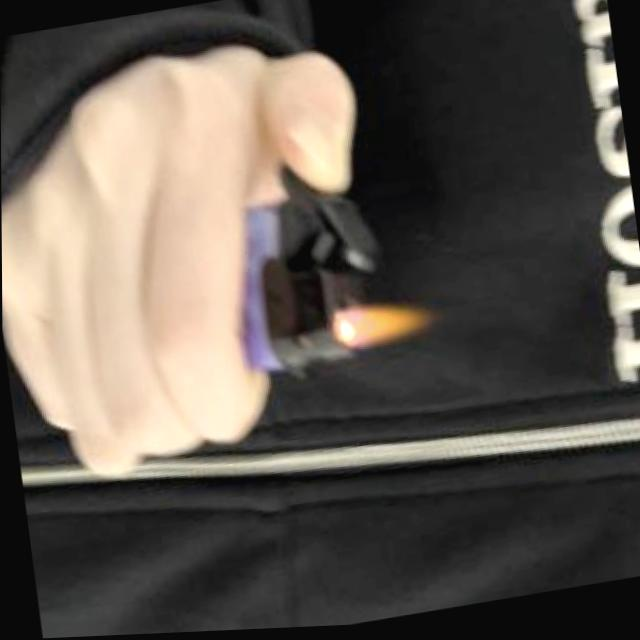fire: (326, 296, 443, 358)
